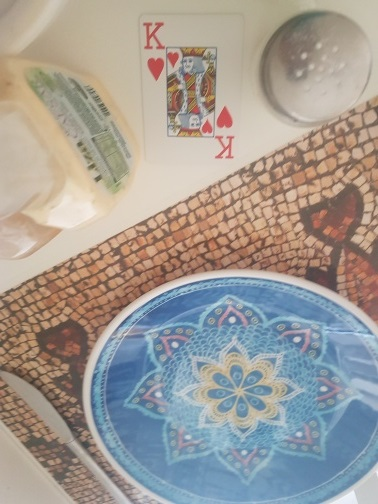king: (138, 13, 244, 164)
